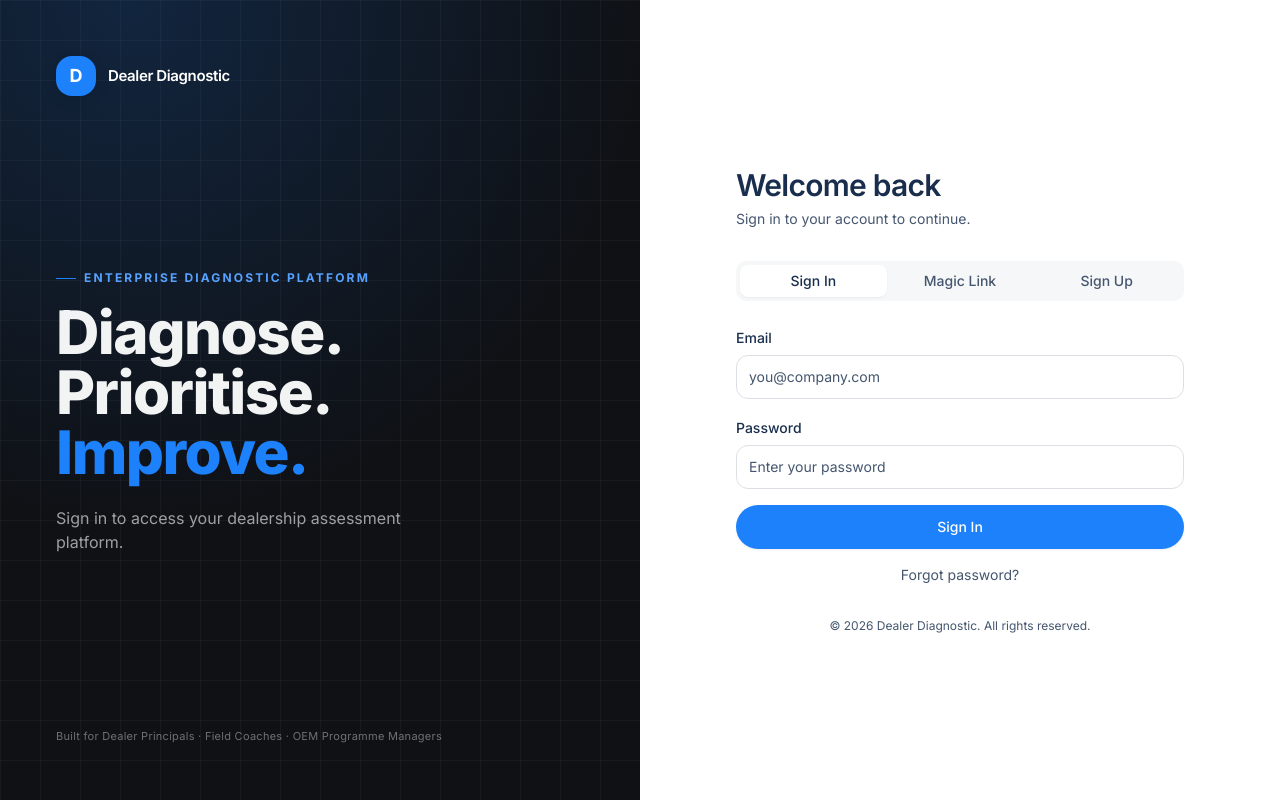
Scenario: Auth Component › switches between auth methods
Press the mouse on the tab "Magic Link" at (960, 280), box [887,264,1033,296]
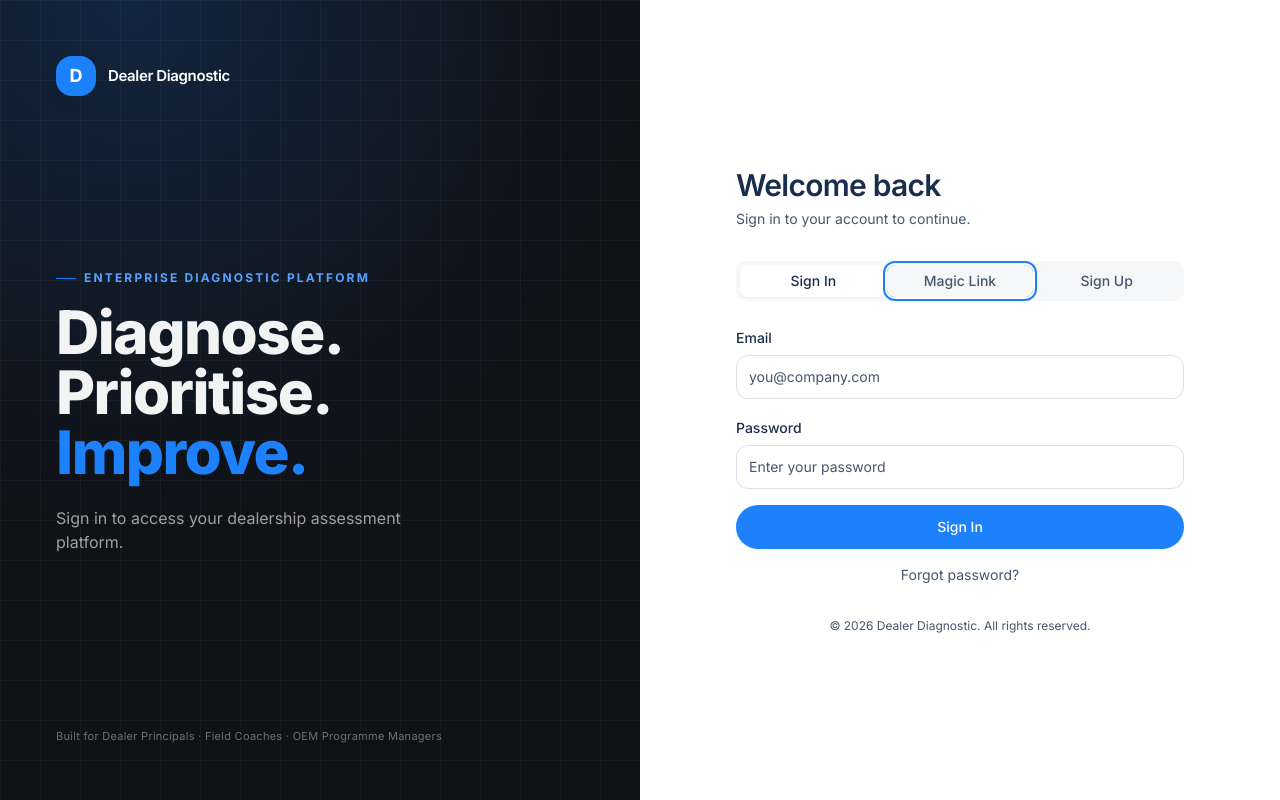
Click the tab "Magic Link" at (960, 280), box [887,264,1033,296]
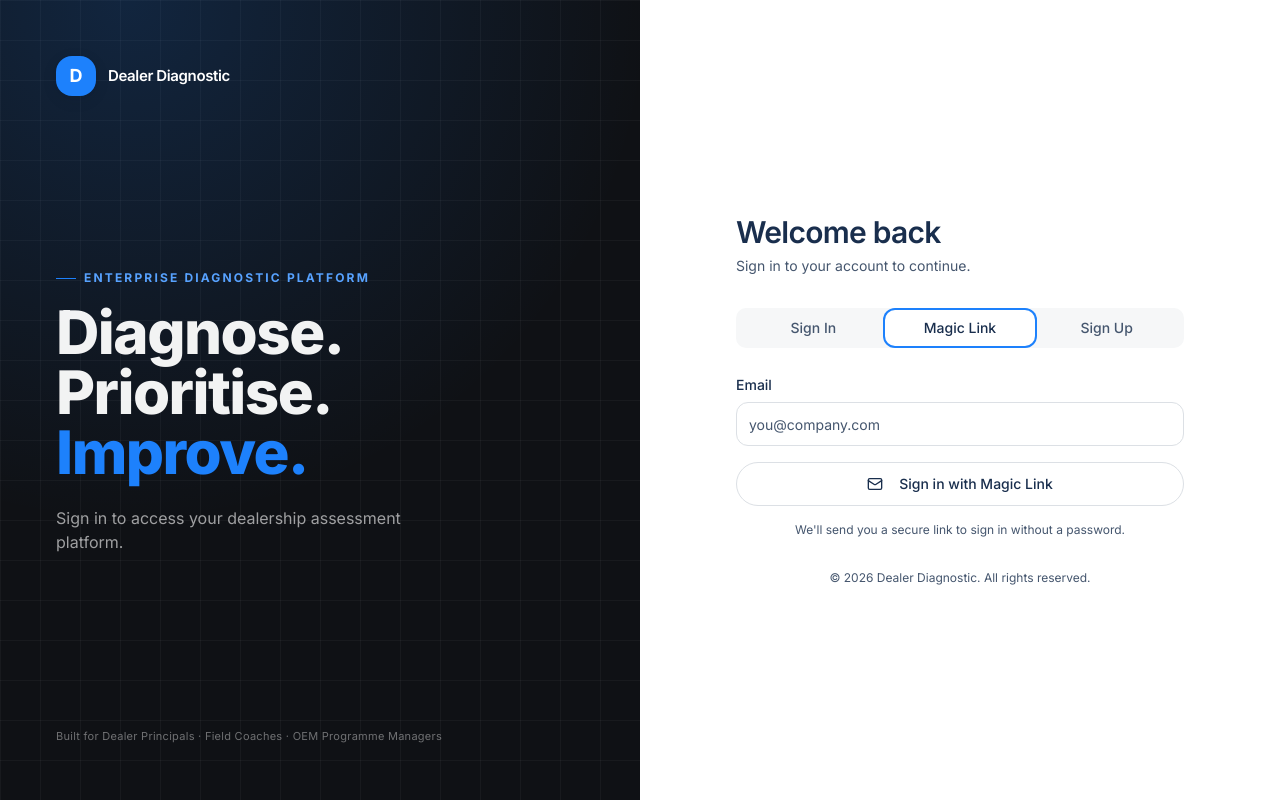
Now the button "Sign in with Magic Link" is shown, box [736,462,1184,506]
Press the mouse on the tab "Sign Up" at (1107, 328), box [1033,312,1180,344]
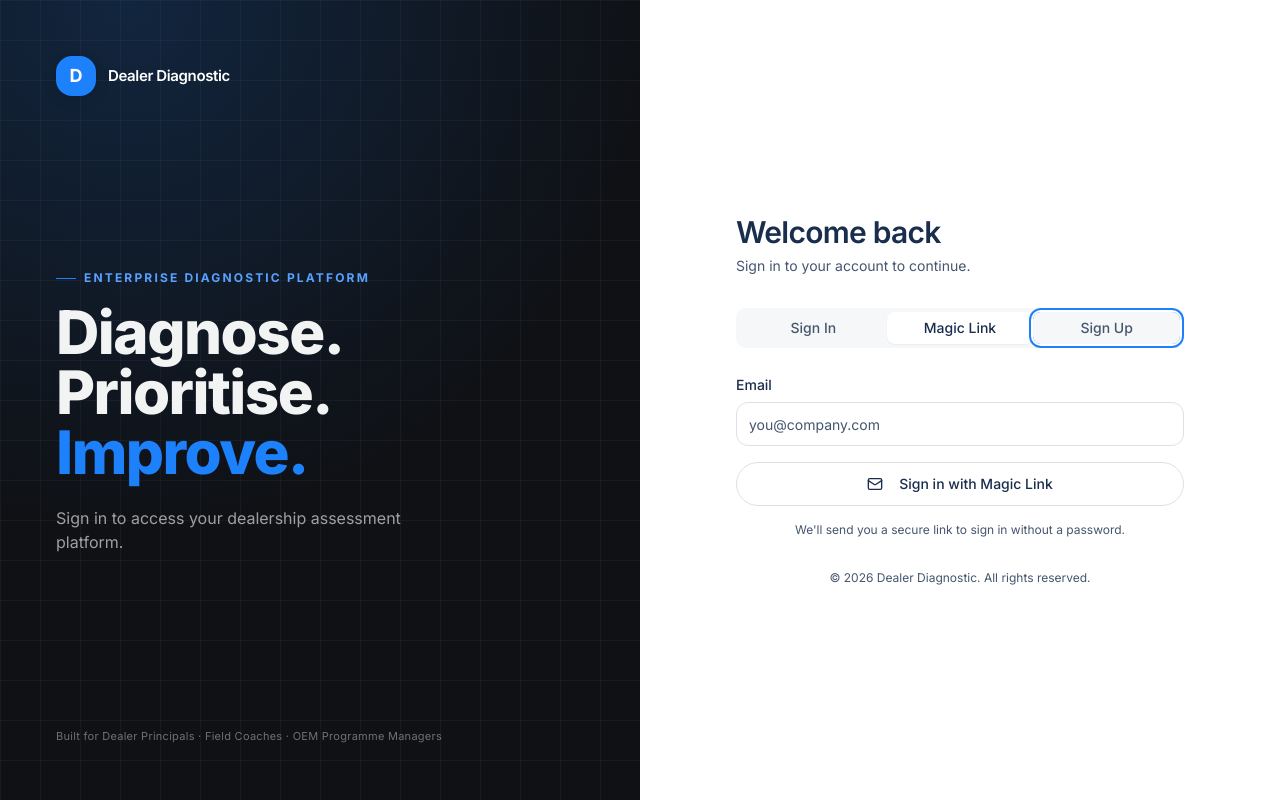
Click the tab "Sign Up" at (1107, 328), box [1033,312,1180,344]
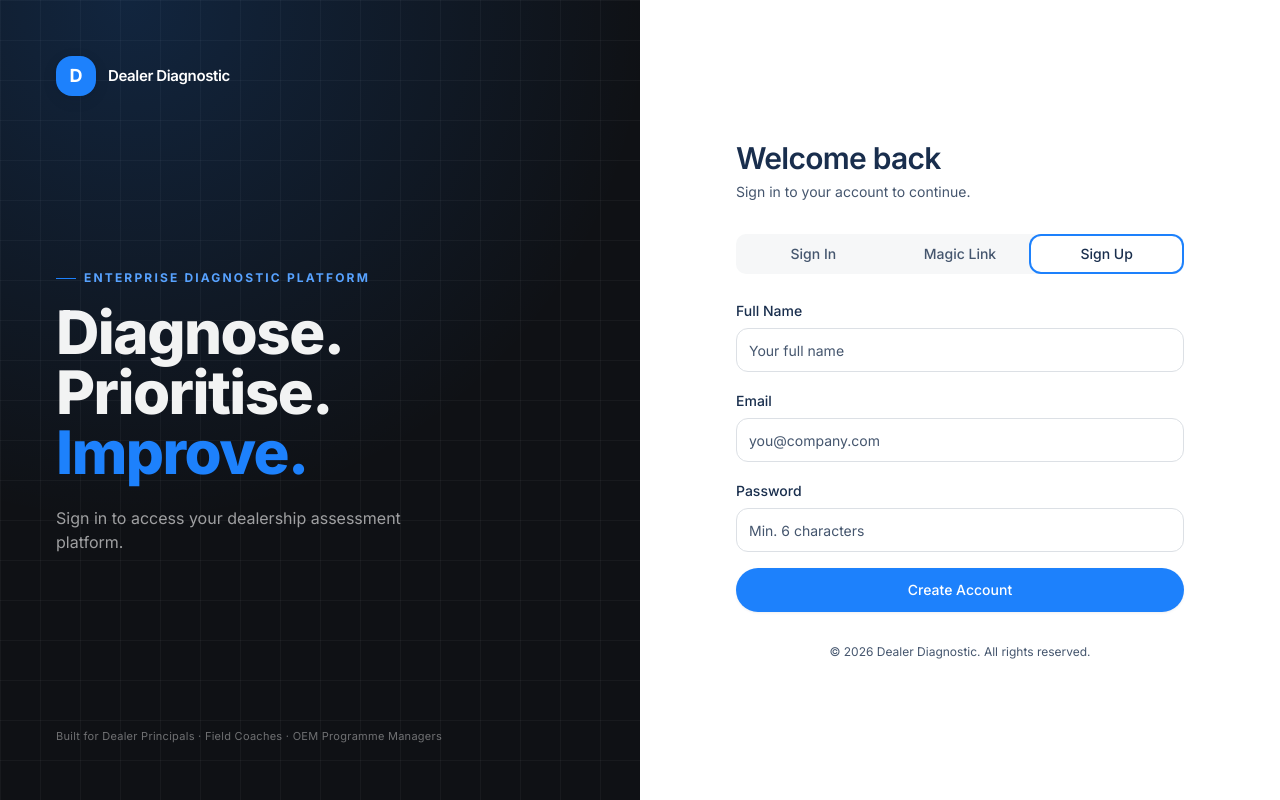
Now the button "Create Account" is shown, box [736,568,1184,612]
Now the field with placeholder "Your full name" is shown, box [736,328,1184,372]
